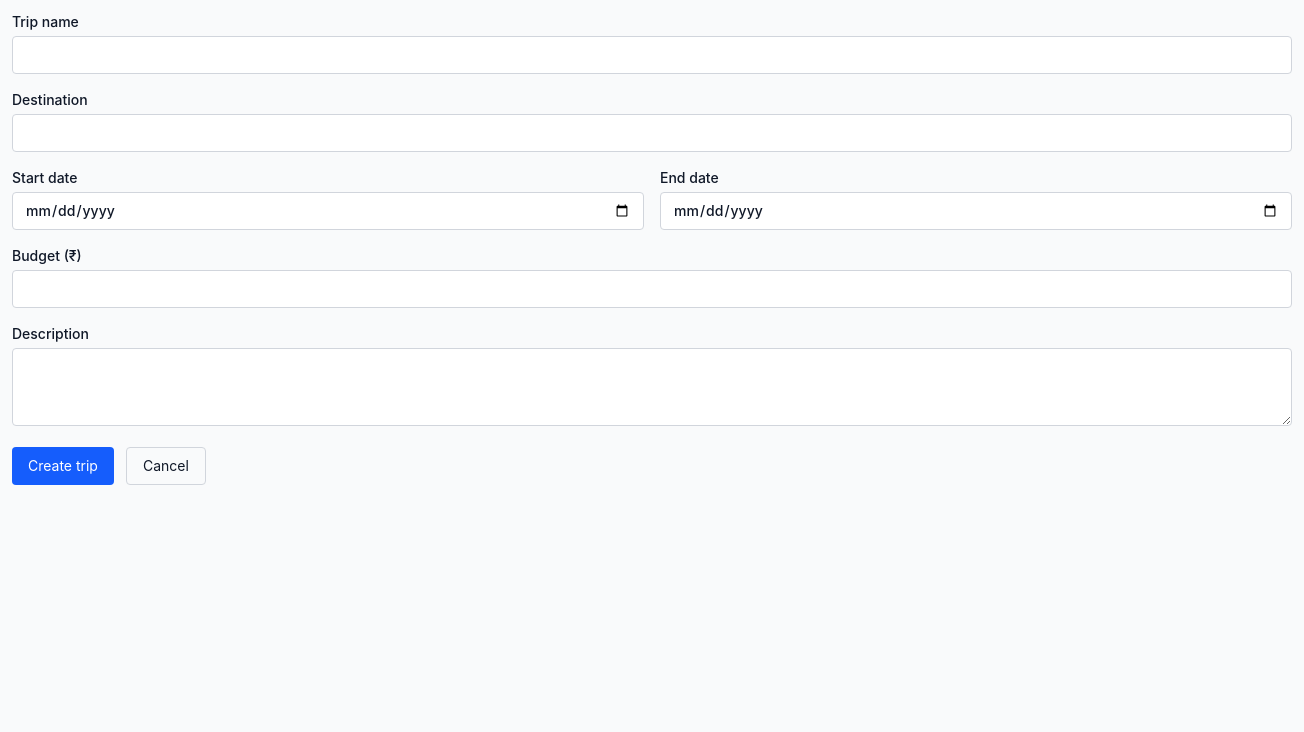
Test: TripForm › shows the error returned by the server
In the field labelled "Trip name": point(652, 55) left=12, top=36, right=1292, bottom=74, type "Goa Trip"
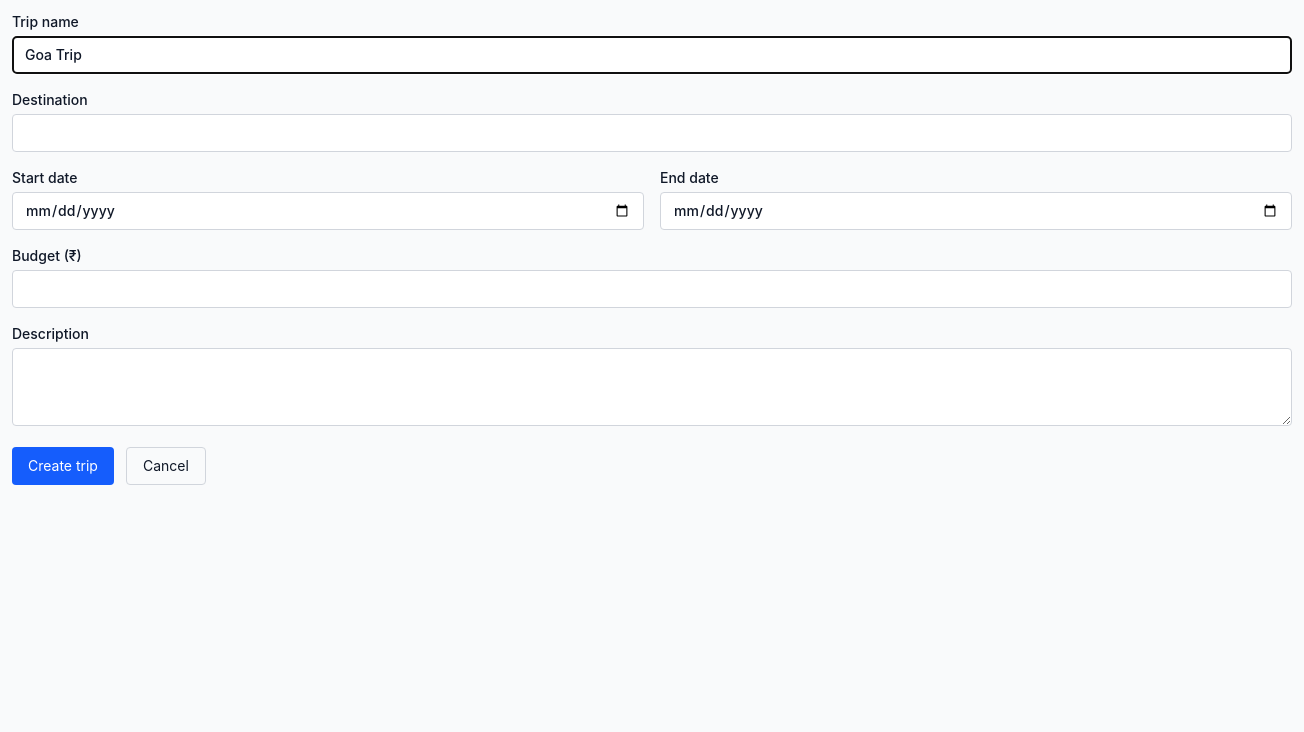
In the field labelled "Destination": point(652, 133) left=12, top=114, right=1292, bottom=152, type "Goa"
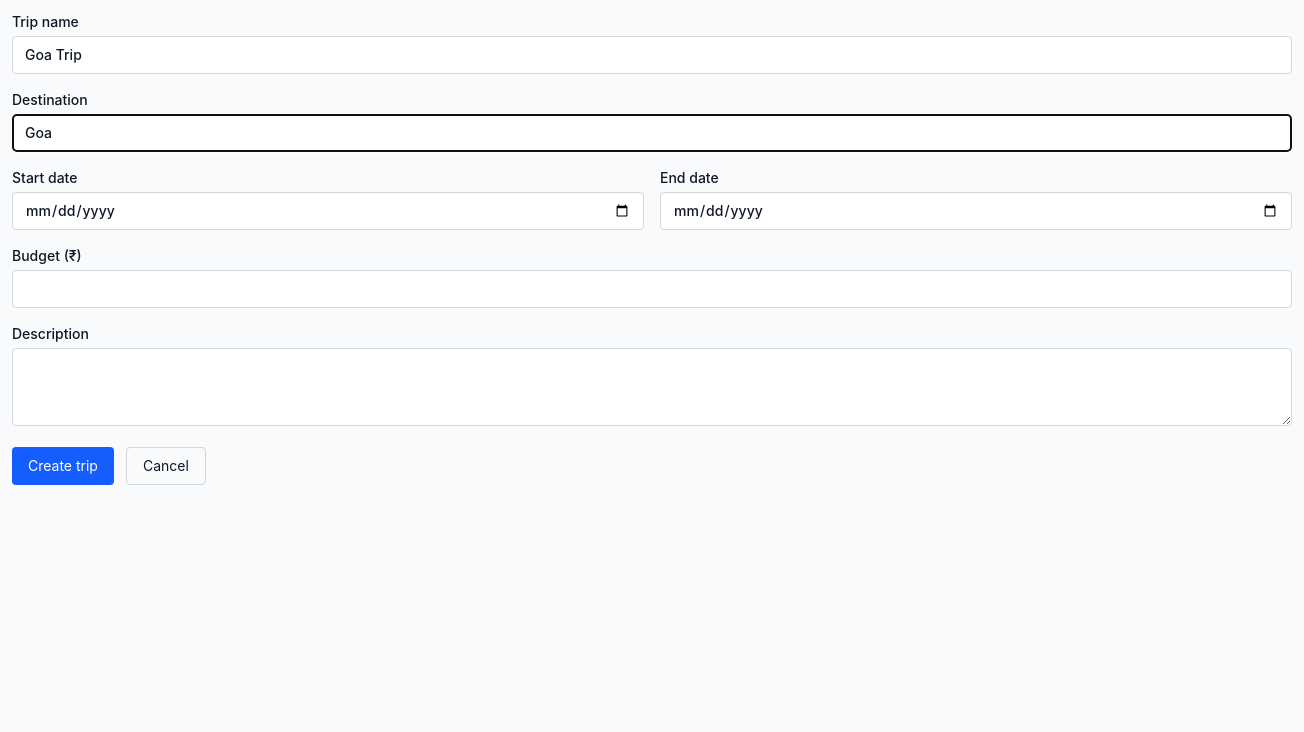
In the date field labelled "Start date": point(328, 211) left=12, top=192, right=644, bottom=230, type "2026-11-10"
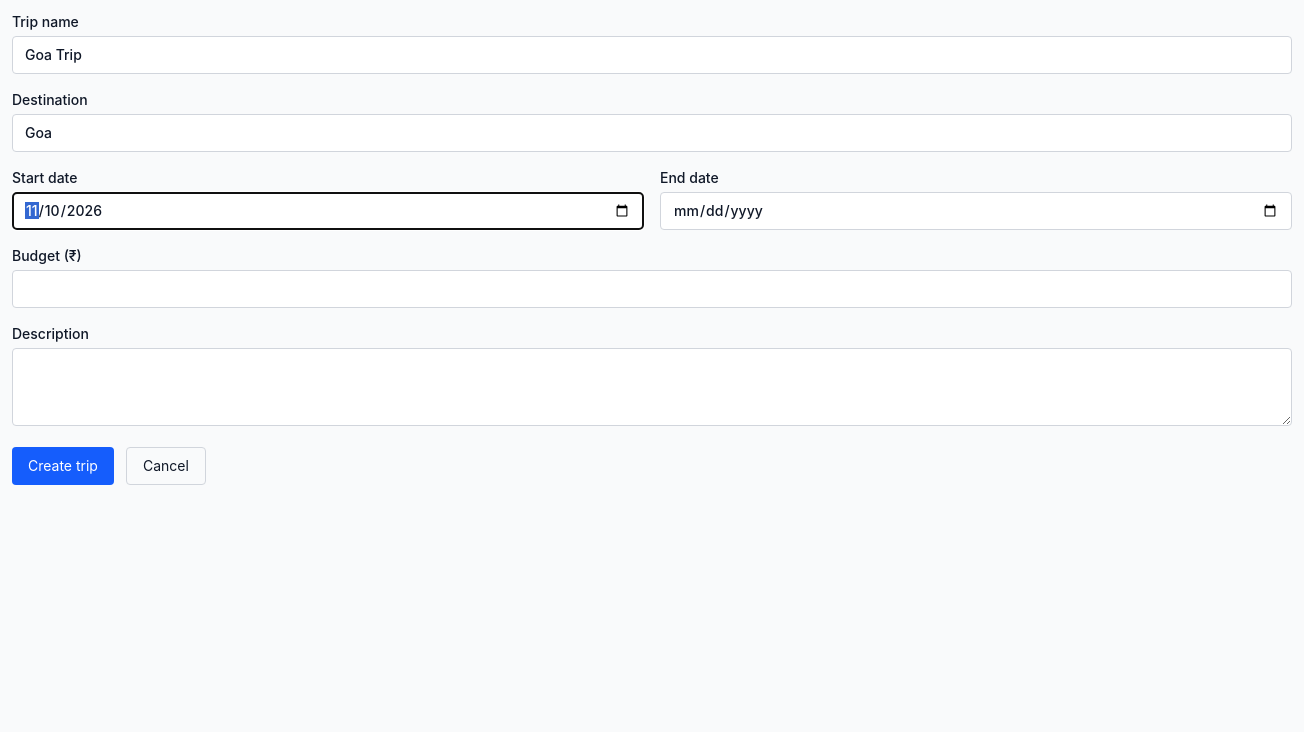
In the date field labelled "End date": point(976, 211) left=660, top=192, right=1292, bottom=230, type "2026-11-14"
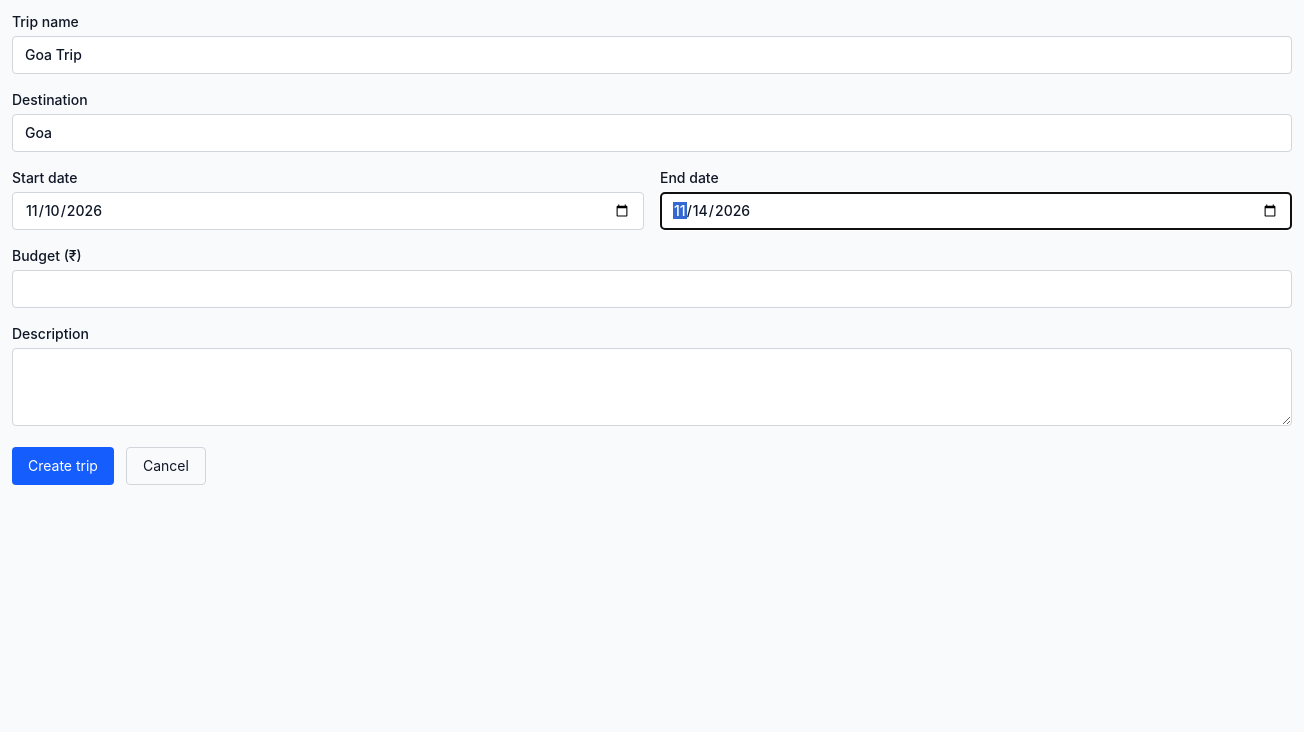
In the number field labelled "Budget (₹)": point(652, 289) left=12, top=270, right=1292, bottom=308, type "20000"
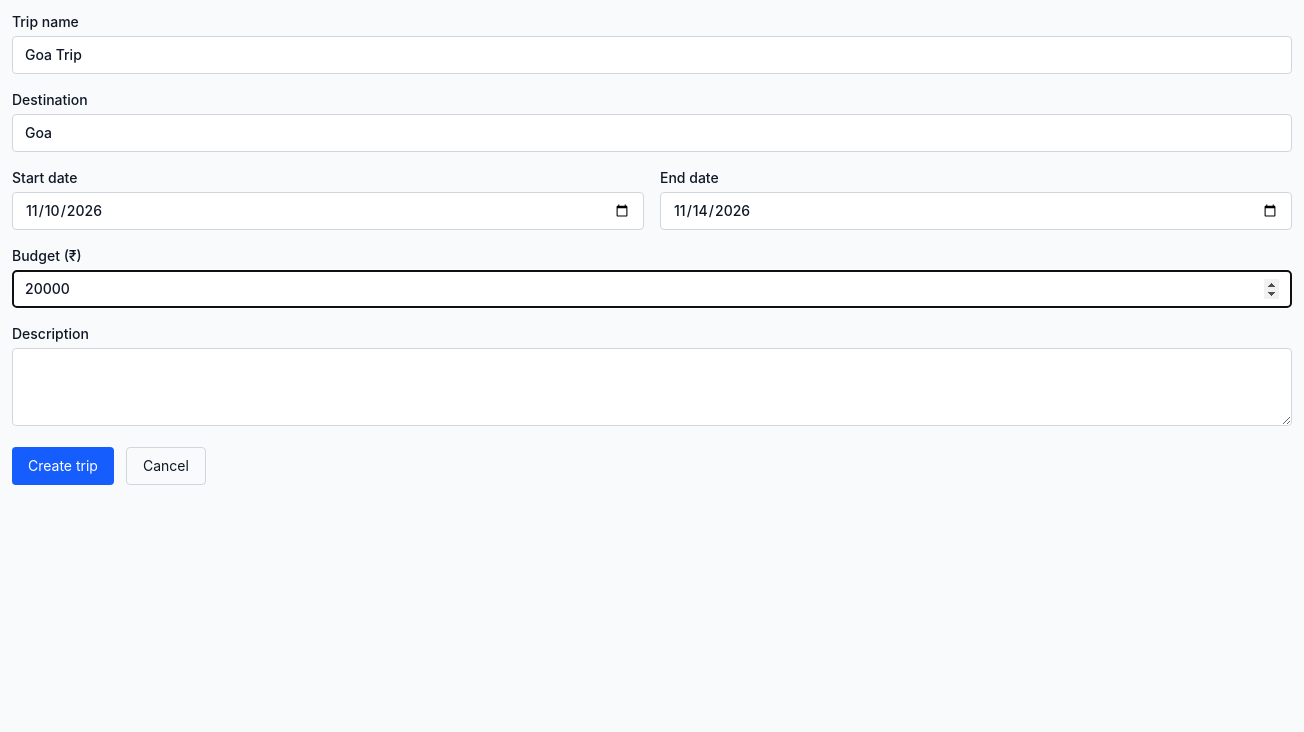
Click the button "Create trip": point(63, 466) left=12, top=447, right=114, bottom=485
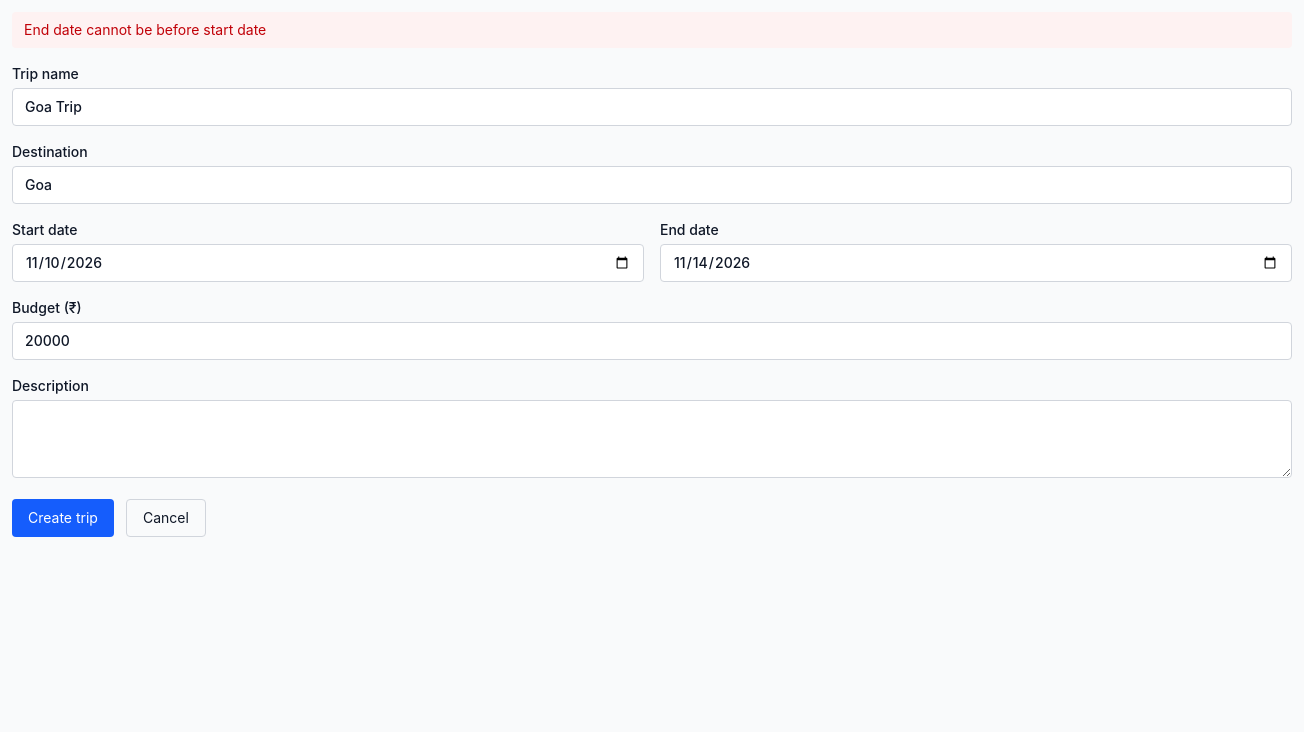
Expected: the text "End date cannot be before start date" is shown, left=12, top=12, right=1292, bottom=48
